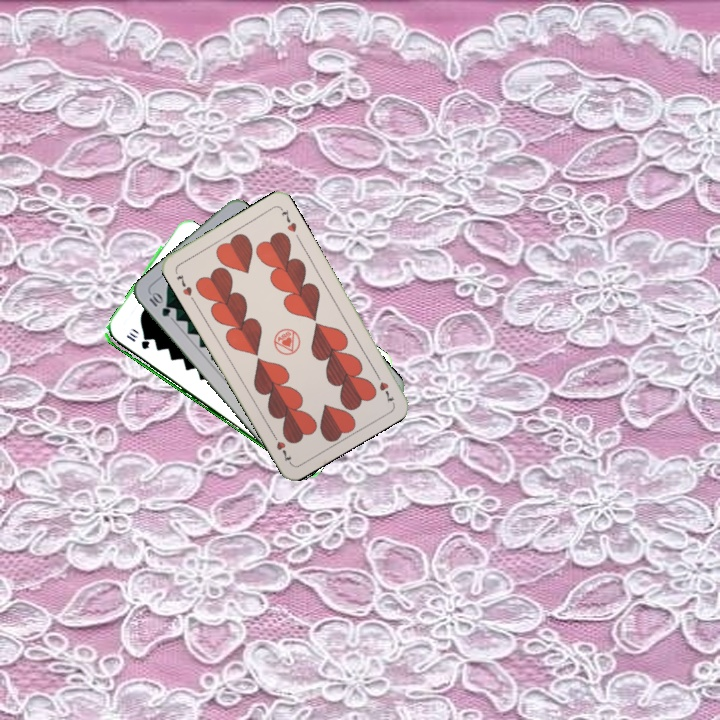G10: (145, 288, 173, 319), (122, 331, 152, 352)
H7: (371, 368, 397, 405), (172, 270, 195, 298)
